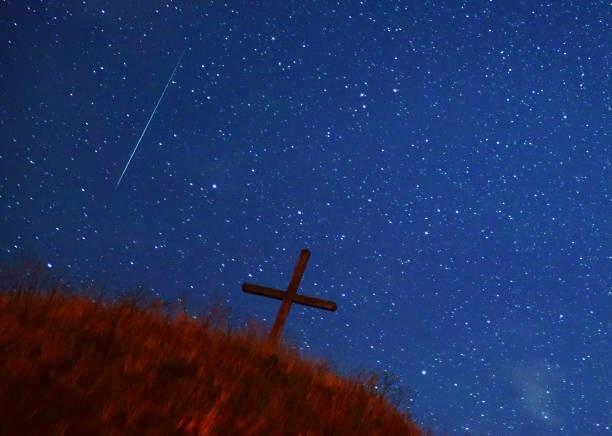meteorite: (110, 57, 183, 193)
